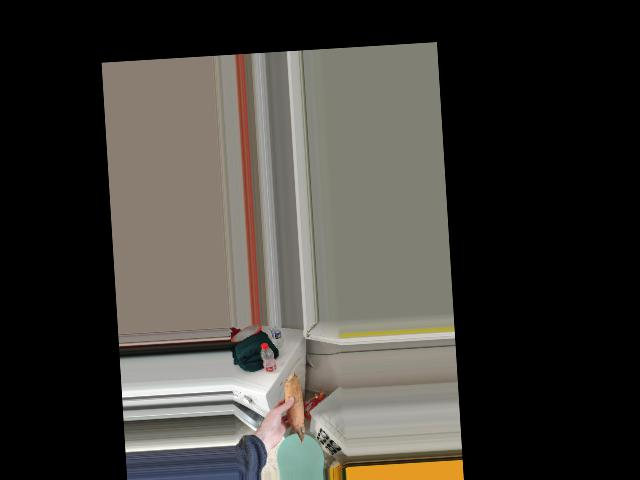sweet_potato: (280, 377, 306, 438)
